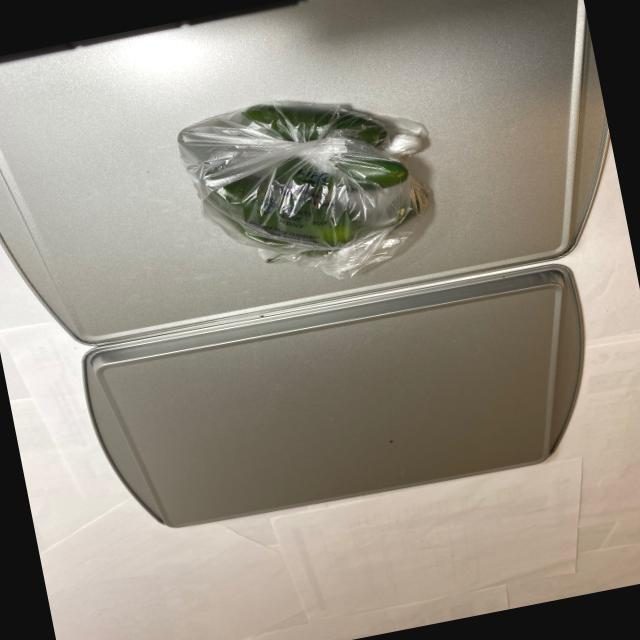chilli: (192, 76, 434, 280)
